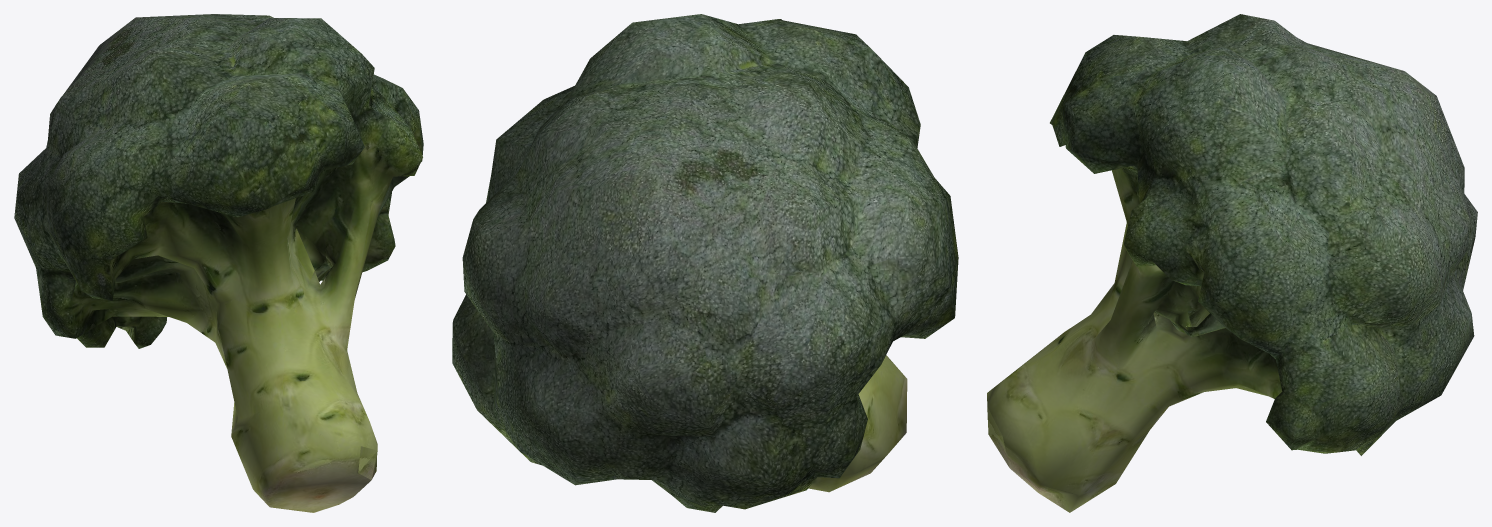
File: GreenVegetableBroccoli.fbx
The picture shows the model from 3 angles, left to right: view 1: azimuth 30°, elevation 25°; view 2: azimuth 150°, elevation 25°; view 3: azimuth 270°, elevation 25°; orthographic projection. The views are drawn at different scales.
Visible parts, largest first — view 1: Broccoli; view 2: Broccoli; view 3: Broccoli.
Boxes of the visible parts, left/top/right/bottom form: Broccoli: left=14, top=14, right=423, bottom=512; Broccoli: left=452, top=14, right=958, bottom=512; Broccoli: left=987, top=14, right=1477, bottom=512.
Bounding box in the file's own units: 0.1372 × 0.1458 × 0.1527.
Materials: 1 (1 with a texture image).
